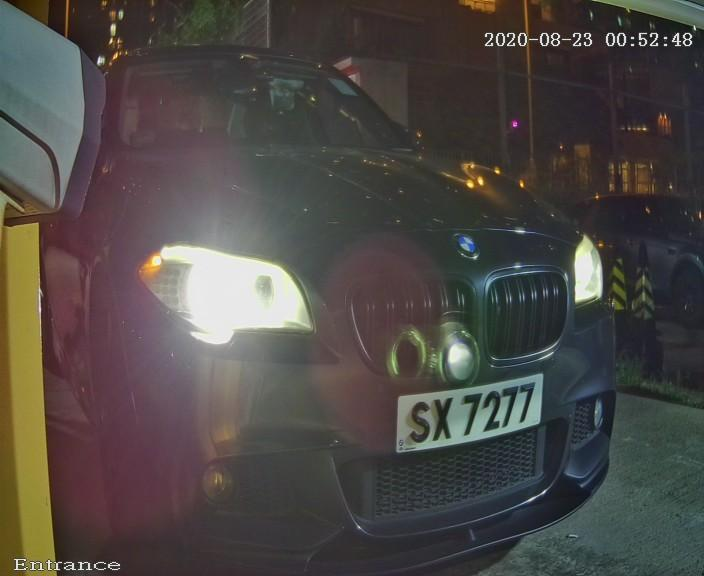Car: (26, 8, 670, 564)
License Plate: (390, 368, 554, 456)
